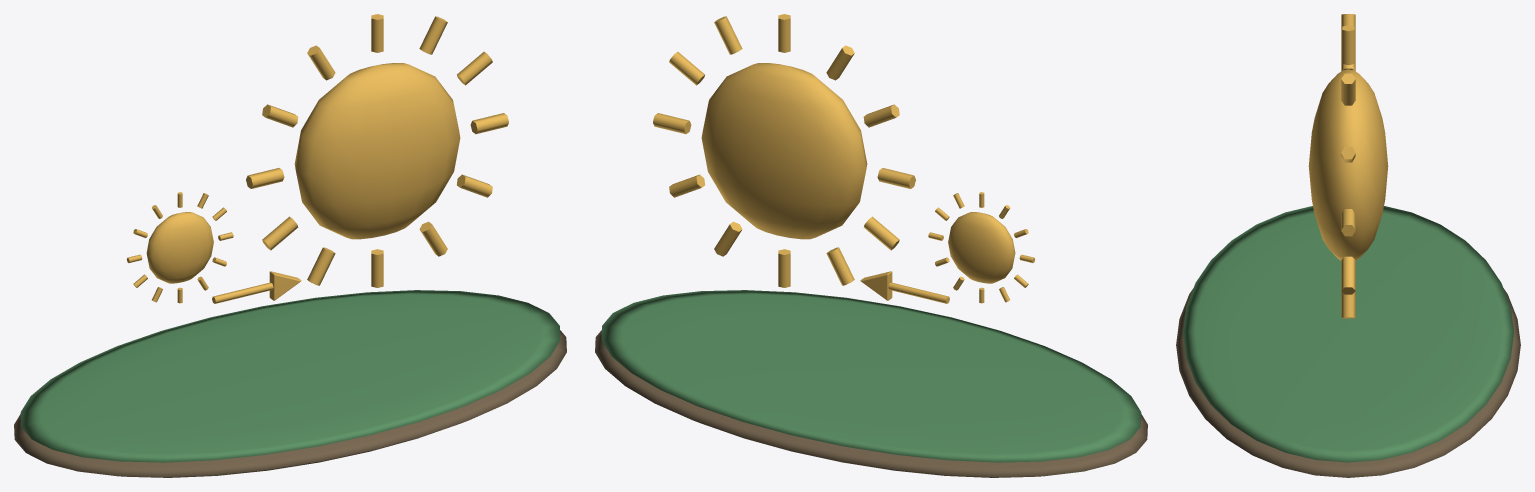
File: blazing-sun.glb
The picture shows the model from 3 angles, left to right: view 1: azimuth 30°, elevation 25°; view 2: azimuth 150°, elevation 25°; view 3: azimuth 270°, elevation 25°; orthographic projection. The views are drawn at different scales.
Visible parts, largest first — view 1: blazing-sun_surface_01, blazing-sun_surface_02, blazing-sun_surface_00; view 2: blazing-sun_surface_01, blazing-sun_surface_02, blazing-sun_surface_00; view 3: blazing-sun_surface_01, blazing-sun_surface_02, blazing-sun_surface_00.
Boxes of the visible parts, x1,y1,x2,y2 form: blazing-sun_surface_01: (20, 290, 560, 462); blazing-sun_surface_02: (127, 14, 508, 303); blazing-sun_surface_00: (14, 330, 566, 477); blazing-sun_surface_01: (601, 290, 1141, 462); blazing-sun_surface_02: (653, 14, 1034, 303); blazing-sun_surface_00: (595, 330, 1147, 477); blazing-sun_surface_01: (1183, 206, 1513, 462); blazing-sun_surface_02: (1308, 14, 1388, 318); blazing-sun_surface_00: (1176, 288, 1520, 477).
Size of the model in its own units: 4.56 by 3.01 by 2.5.
